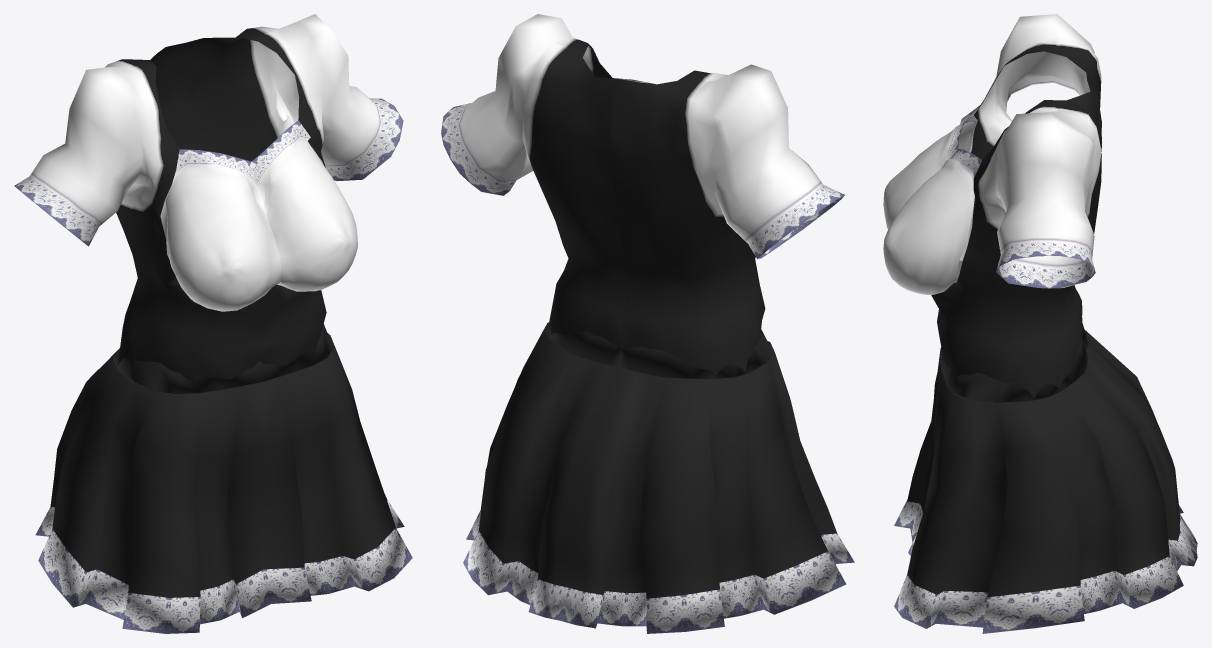
The model's file is TopMaid.fbx.
3 renders of one model, left to right at view 1: azimuth 30°, elevation 25°; view 2: azimuth 150°, elevation 25°; view 3: azimuth 270°, elevation 25°, orthographic. The views are drawn at different scales.
Parts seen in each view (by area): view 1: MaidCloth_mesh; view 2: MaidCloth_mesh; view 3: MaidCloth_mesh.
Part boxes in pixels (<box>): MaidCloth_mesh: <box>14,14,412,633</box>; MaidCloth_mesh: <box>441,14,854,633</box>; MaidCloth_mesh: <box>883,14,1197,633</box>.
Size of the model in its own units: 50.62 by 67.3 by 38.23.
2 materials, 2 textured.
